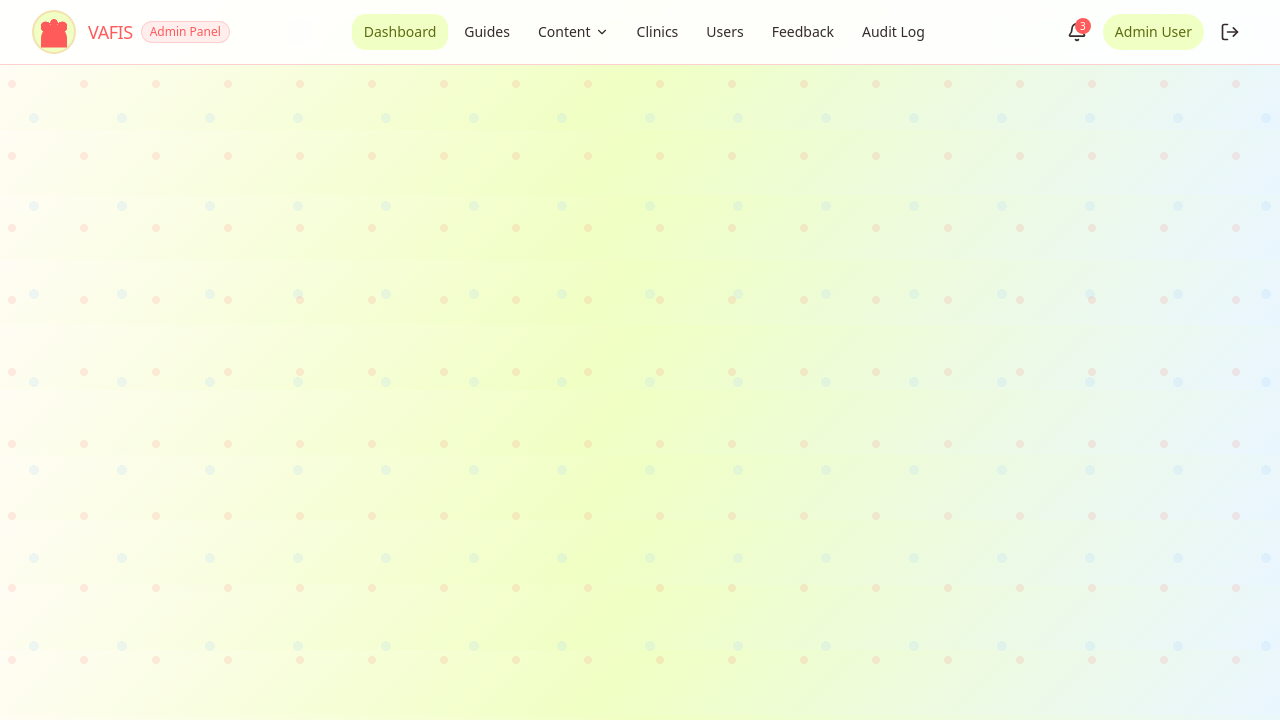
Test: AdminHeader › opens the content menu and navigates to a selected content page
The width and height of the screenshot is (1280, 720).
Click the button "Content". click: coordinates (573, 32)
box: [526,14,620,50]
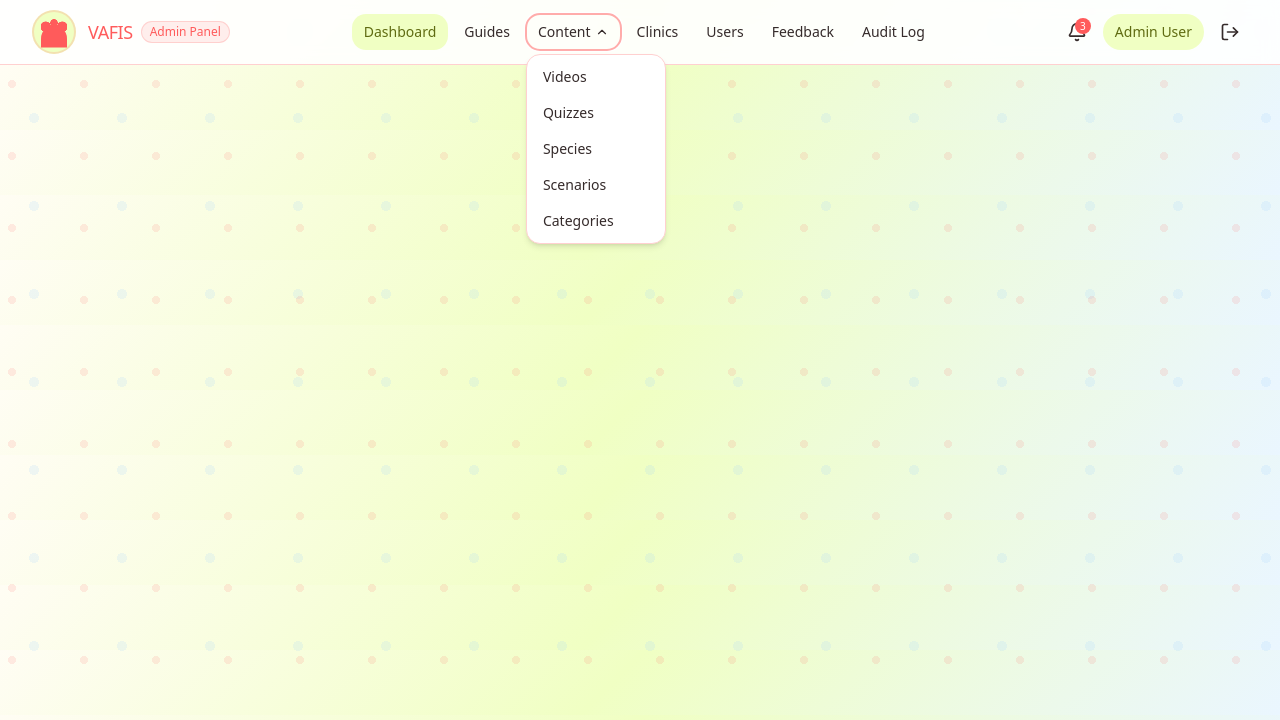
Click the button "Videos". click: coordinates (596, 77)
box: [527,59,665,95]
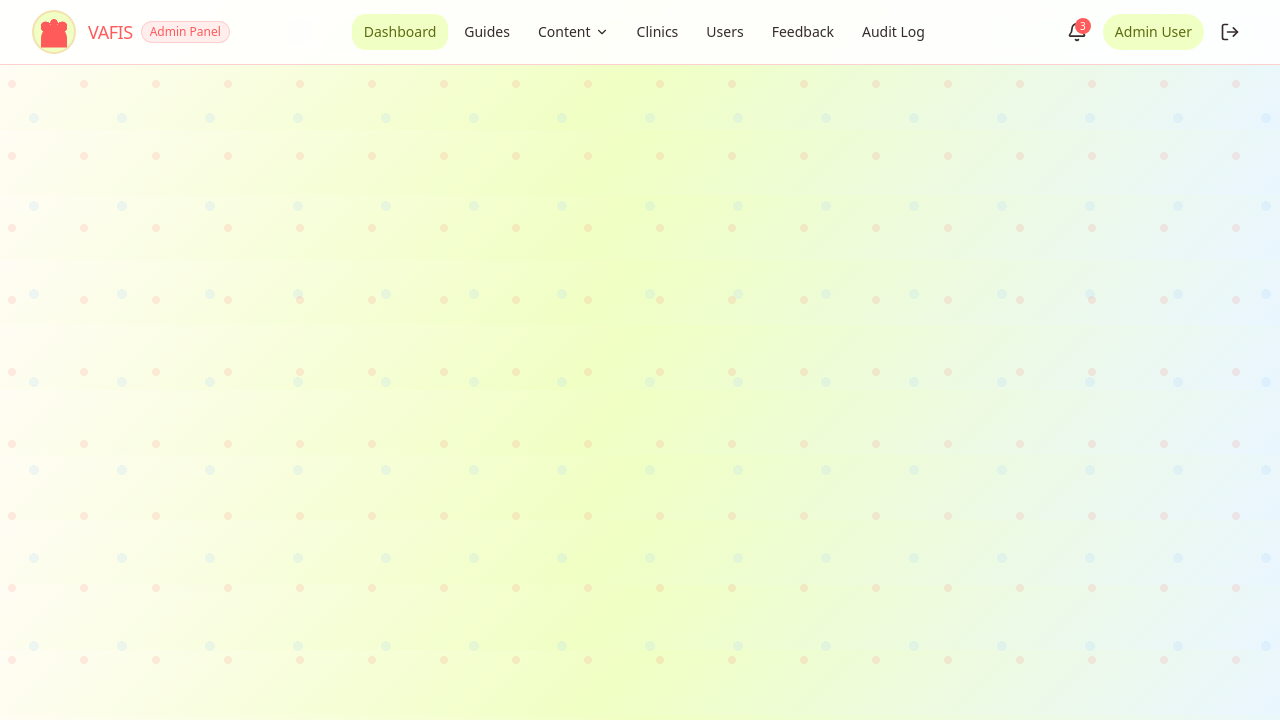
Expected: the button "Videos" is gone
